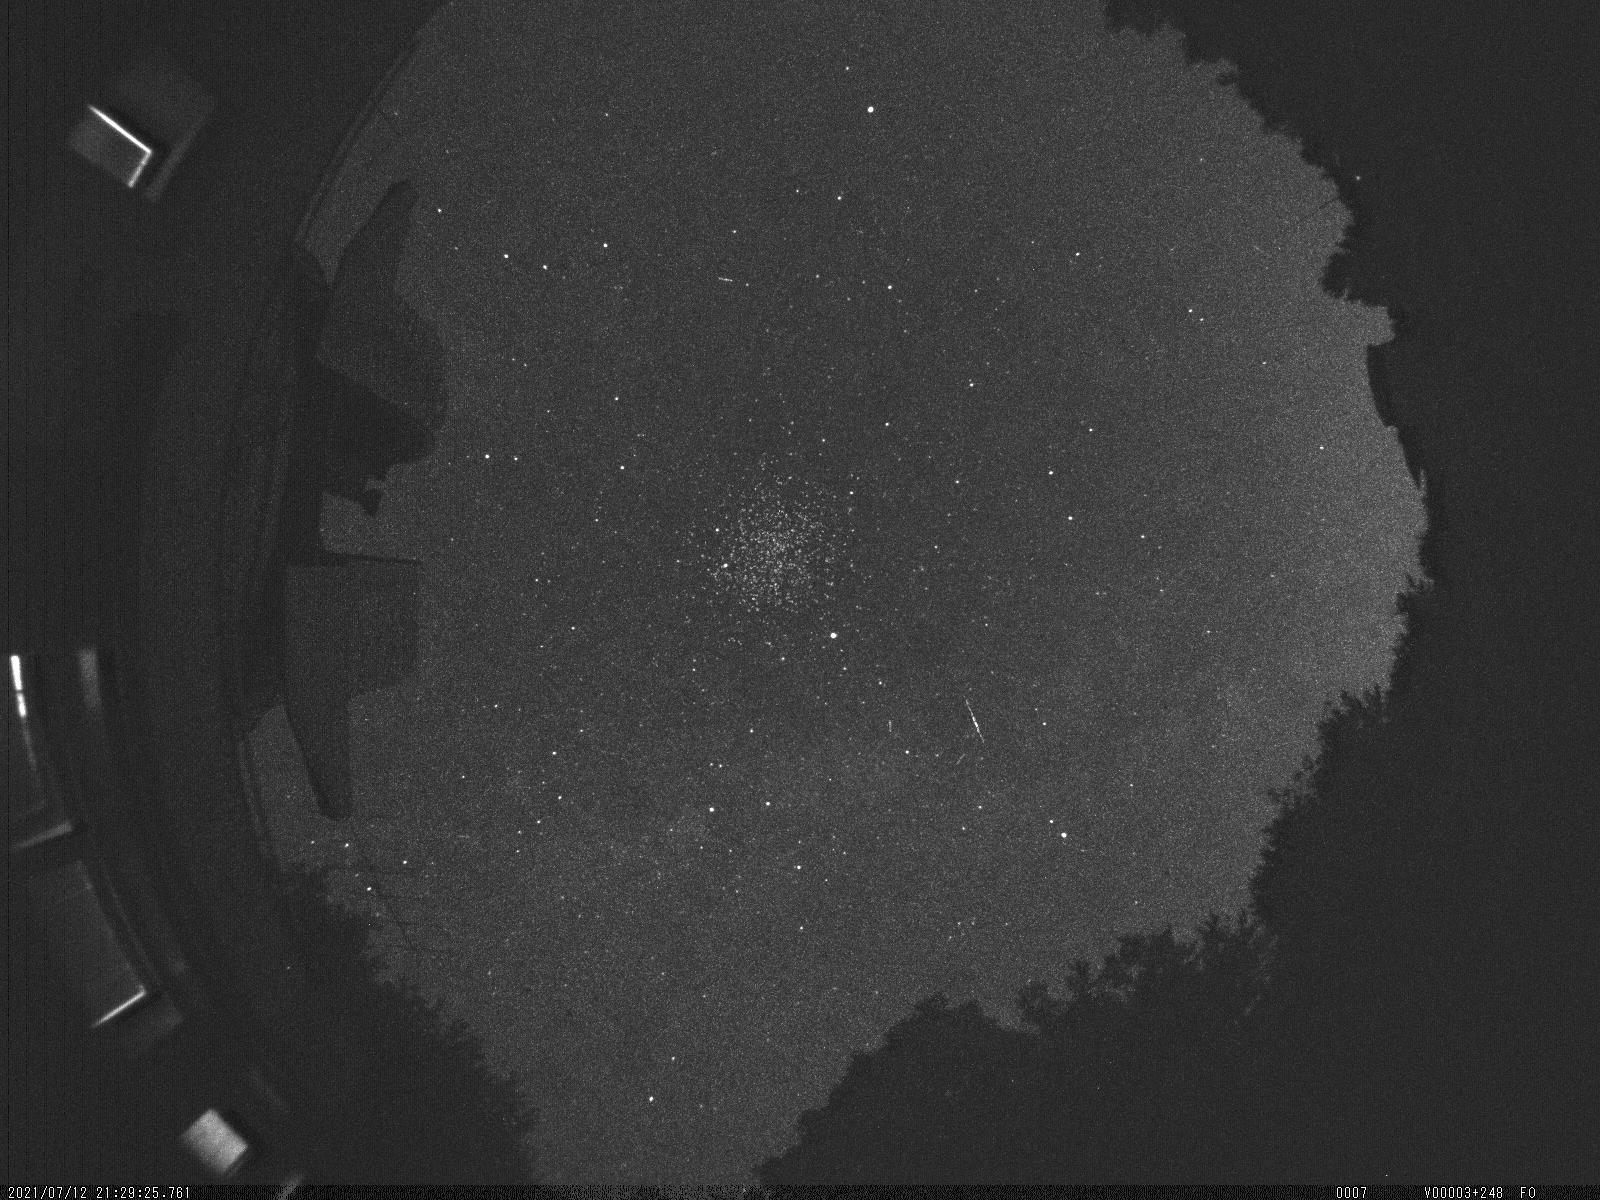Meteor: (955, 693, 993, 753)
